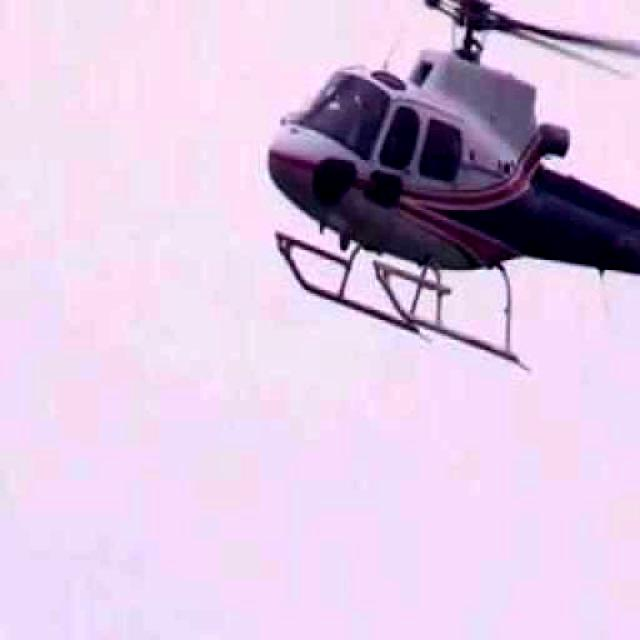drone: (132, 0, 640, 416)
